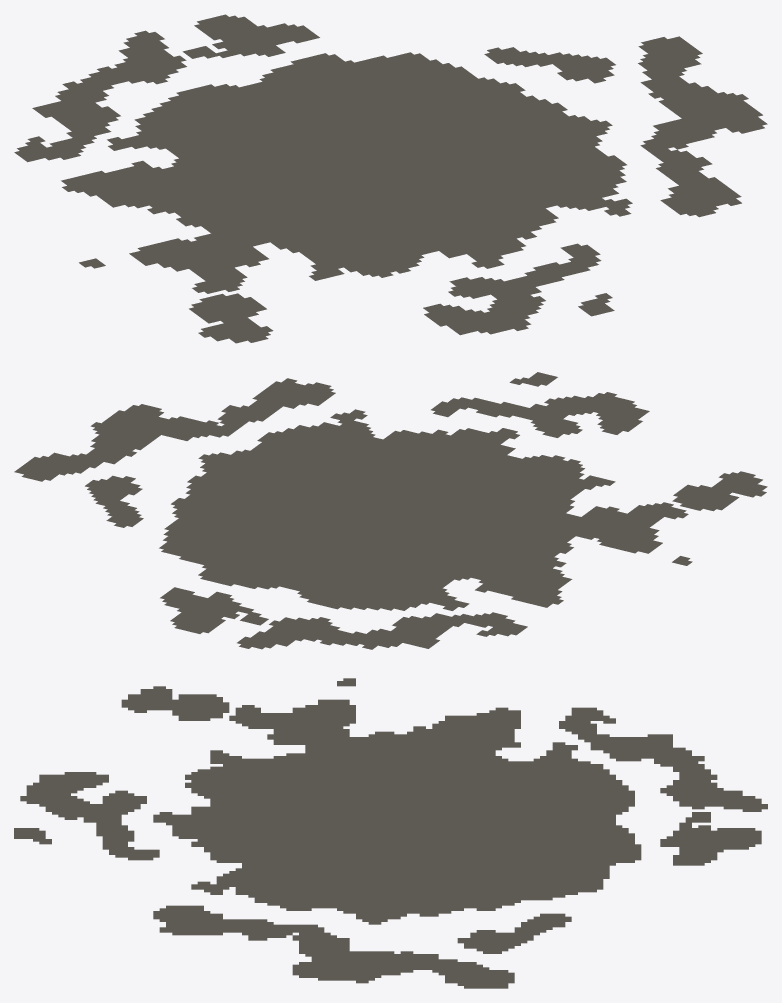
The model's file is Isl-hilly5-NoBuildArea.fbx.
The picture shows the model from 3 angles, top to bottom: view 1: azimuth 30°, elevation 25°; view 2: azimuth 150°, elevation 25°; view 3: azimuth 270°, elevation 25°; orthographic projection. The views are drawn at different scales.
Visible parts, largest first — view 1: Isl-hilly5-NoBuildArea; view 2: Isl-hilly5-NoBuildArea; view 3: Isl-hilly5-NoBuildArea.
Boxes of the visible parts, x1,y1,x2,y2 form: Isl-hilly5-NoBuildArea: (14, 14, 767, 343); Isl-hilly5-NoBuildArea: (14, 372, 767, 649); Isl-hilly5-NoBuildArea: (14, 678, 767, 988).
Size of the model in its own units: 116 by 0 by 119.
